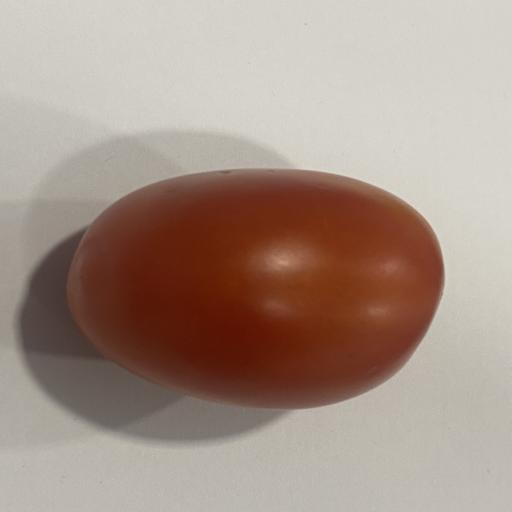ripe: (67, 169, 444, 409)
